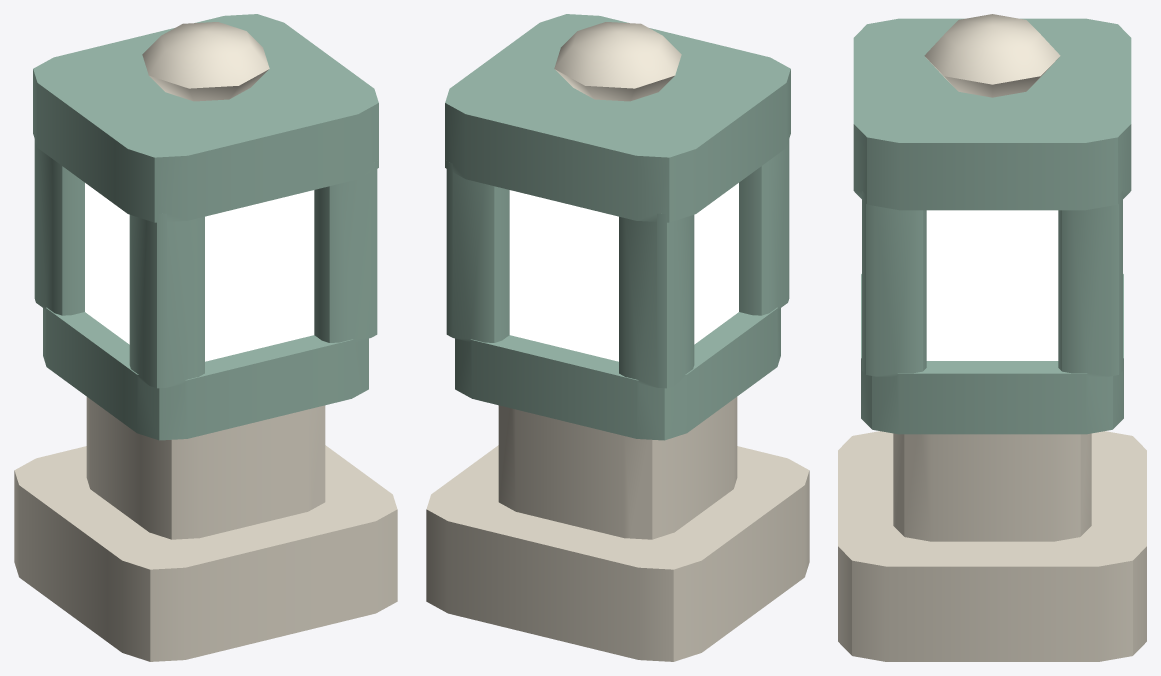
The model's file is spa-lantern.glb.
3 renders of one model, left to right at view 1: azimuth 30°, elevation 25°; view 2: azimuth 150°, elevation 25°; view 3: azimuth 270°, elevation 25°, orthographic. The views are drawn at different scales.
Visible parts, largest first — view 1: spa-lantern; view 2: spa-lantern; view 3: spa-lantern.
Part boxes in pixels (x1,y1,x2,y2): spa-lantern: (14,14,397,661); spa-lantern: (426,14,809,661); spa-lantern: (838,14,1146,661).
Size of the model in its own units: 1.35 by 2.62 by 1.29.
Materials: 2 (1 with a texture image).
